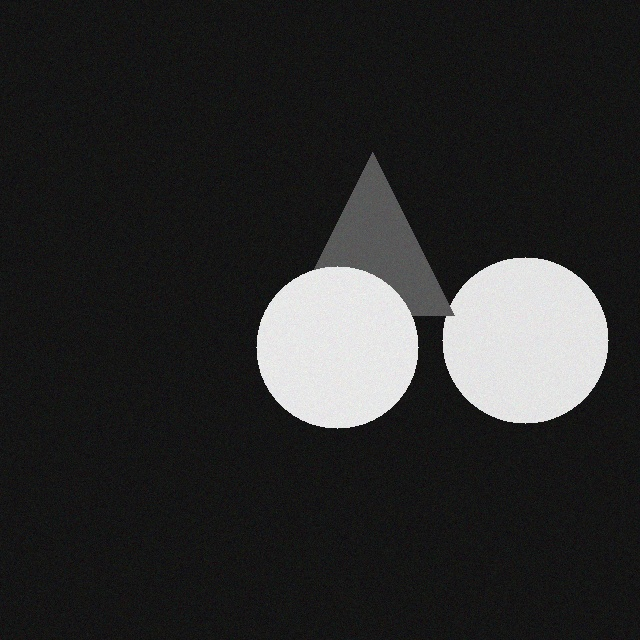circle: (434, 253, 600, 419), (248, 262, 410, 424)
triangle: (283, 148, 446, 311)
